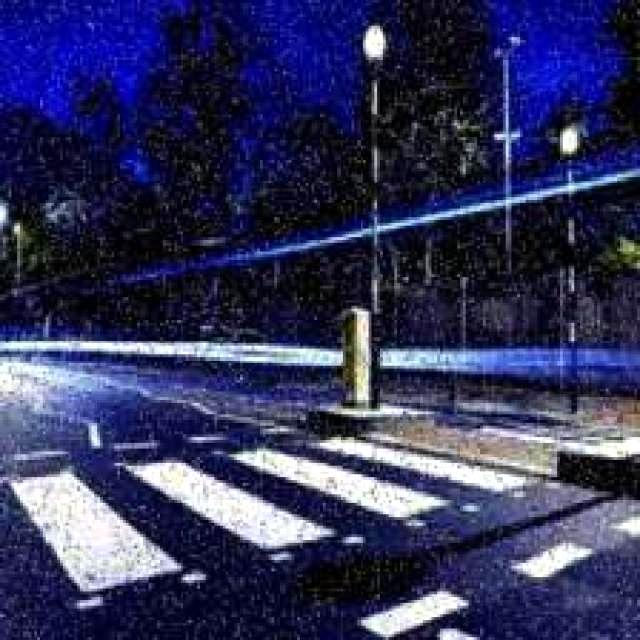crosswalk: (1, 366, 637, 603)
